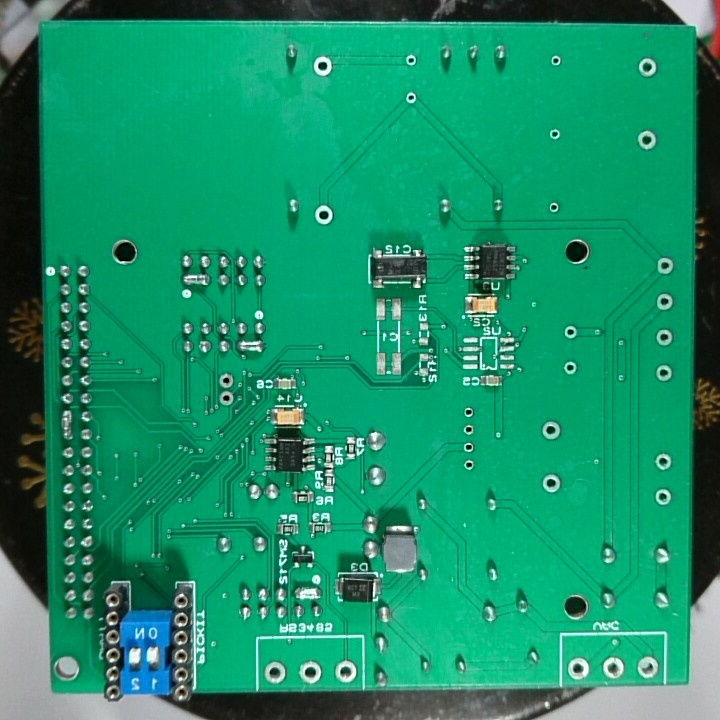F: (295, 657, 324, 686), (634, 126, 662, 153), (565, 655, 594, 681), (330, 658, 359, 684), (262, 658, 288, 686), (635, 55, 661, 82), (635, 655, 661, 680), (601, 656, 628, 680), (311, 55, 334, 80), (654, 255, 677, 280), (540, 418, 563, 443), (539, 472, 564, 495), (651, 451, 675, 474), (652, 486, 674, 511), (313, 204, 336, 226), (653, 326, 674, 349), (654, 291, 675, 312), (215, 389, 238, 408), (217, 370, 237, 390), (653, 363, 672, 384), (562, 323, 581, 342), (561, 358, 579, 378), (458, 439, 477, 456), (403, 90, 420, 107), (546, 126, 563, 143), (403, 52, 419, 69), (461, 458, 477, 475), (461, 403, 477, 420), (548, 53, 564, 69), (461, 422, 476, 439), (546, 200, 561, 215)
P: (57, 407, 75, 443), (234, 337, 268, 356), (179, 271, 213, 289), (292, 585, 323, 602)
